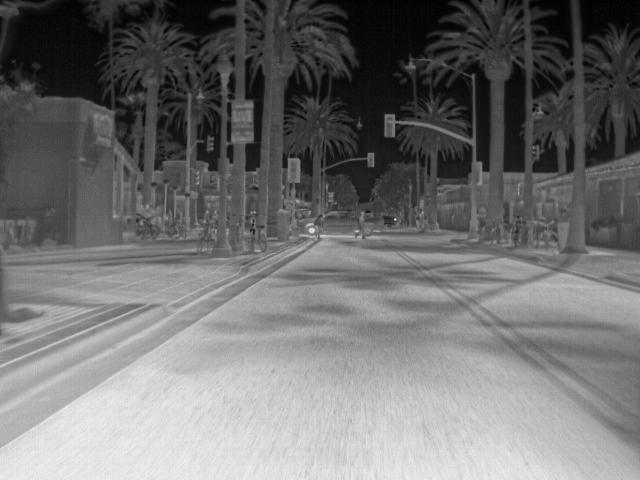car: (326, 210, 355, 234), (300, 215, 314, 234), (384, 215, 399, 227)
person: (511, 214, 524, 248), (355, 211, 368, 239), (314, 211, 327, 239), (415, 212, 421, 226), (205, 208, 211, 221), (214, 208, 220, 220)
